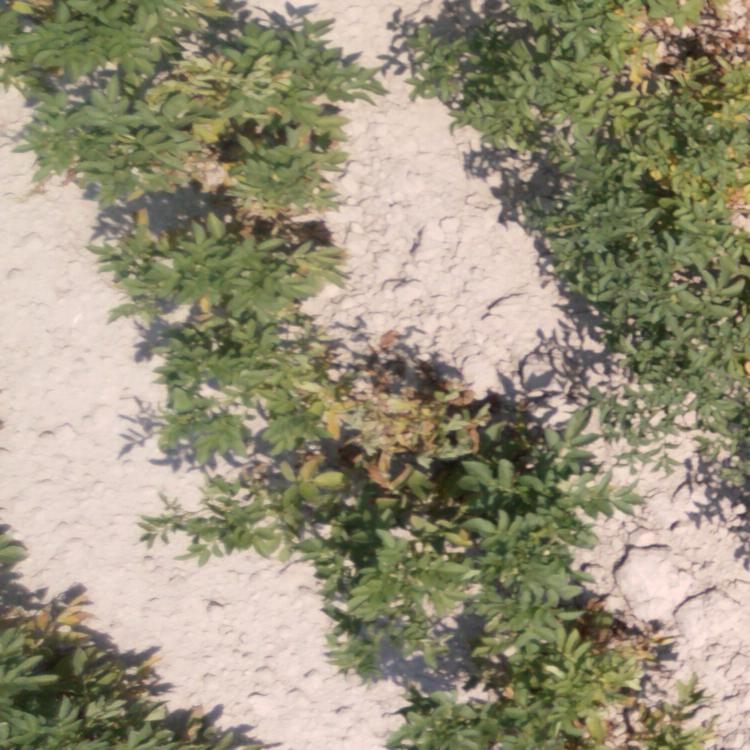healthy: (515, 147, 698, 461), (402, 2, 628, 130)
stressed: (4, 1, 370, 189), (101, 190, 337, 470), (156, 477, 589, 617), (341, 629, 699, 750), (695, 144, 750, 514), (1, 580, 118, 750), (348, 342, 507, 457), (636, 1, 750, 141), (129, 652, 241, 750)
